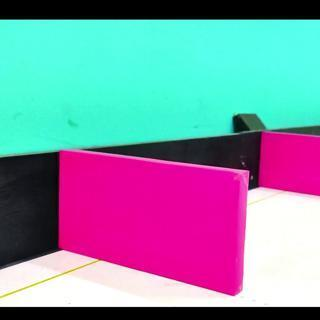xparking: (72, 181, 242, 290), (270, 141, 314, 194)
